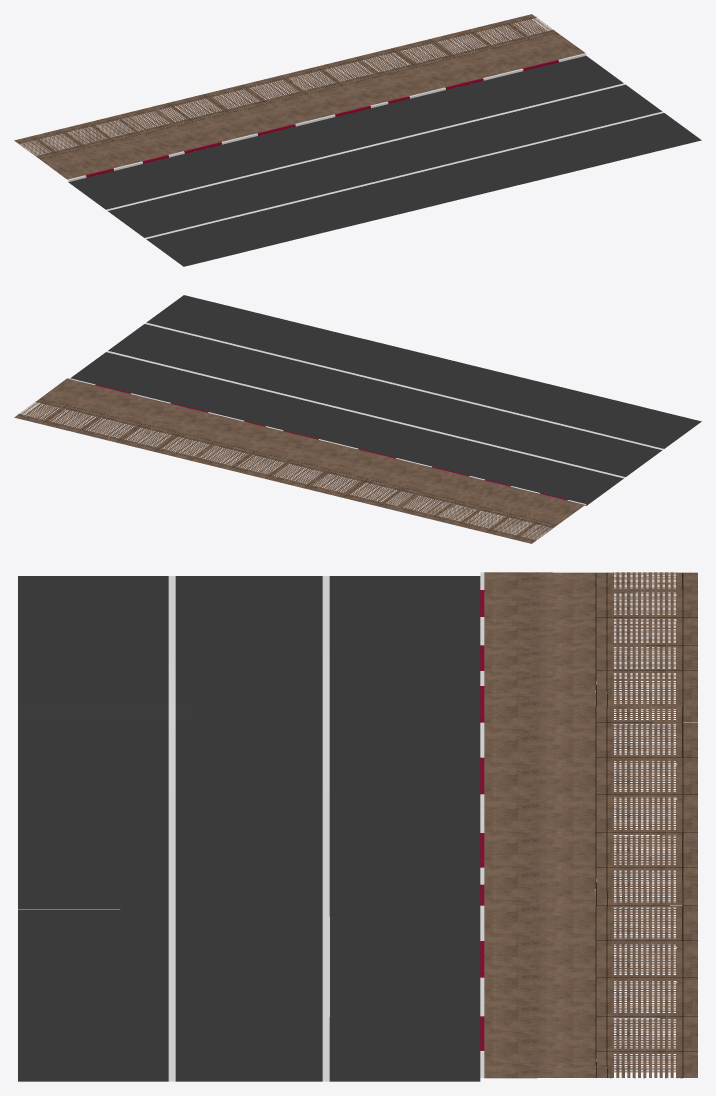
Rendered from route.optimized.glb.
3 views of the same model, one above another, from view 1: azimuth 30°, elevation 25°; view 2: azimuth 150°, elevation 25°; view 3: azimuth 270°, elevation 25° (orthographic). The views are drawn at different scales.
Visible parts, largest first — view 1: Cube.001_Material.065_0, Cube.001_Large Floor Tiles_0, Cube.001_Material.058_0, Cube.001_Material.062_0, Cube.001_Material.059_0; view 2: Cube.001_Material.065_0, Cube.001_Large Floor Tiles_0, Cube.001_Material.058_0, Cube.001_Material.062_0, Cube.001_Material.059_0; view 3: Cube.001_Material.065_0, Cube.001_Large Floor Tiles_0, Cube.001_Material.058_0, Cube.001_Material.062_0, Cube.001_Material.059_0.
Boxes of the visible parts, box(x1,y1,x2,y2) form: Cube.001_Material.065_0: box(68, 56, 701, 266); Cube.001_Large Floor Tiles_0: box(14, 14, 584, 179); Cube.001_Material.058_0: box(67, 53, 663, 239); Cube.001_Material.062_0: box(19, 17, 556, 158); Cube.001_Material.059_0: box(85, 60, 558, 177); Cube.001_Material.065_0: box(70, 295, 701, 505); Cube.001_Large Floor Tiles_0: box(14, 378, 584, 543); Cube.001_Material.058_0: box(67, 322, 663, 505); Cube.001_Material.062_0: box(20, 399, 556, 541); Cube.001_Material.059_0: box(95, 384, 567, 500); Cube.001_Material.065_0: box(18, 576, 480, 1081); Cube.001_Large Floor Tiles_0: box(484, 572, 697, 1078); Cube.001_Material.058_0: box(168, 572, 484, 1081); Cube.001_Material.062_0: box(595, 572, 697, 1077); Cube.001_Material.059_0: box(480, 590, 484, 1050).
Bounding box in the file's own units: 30.1 × 0.1052 × 17.09.
5 materials, 1 textured.
